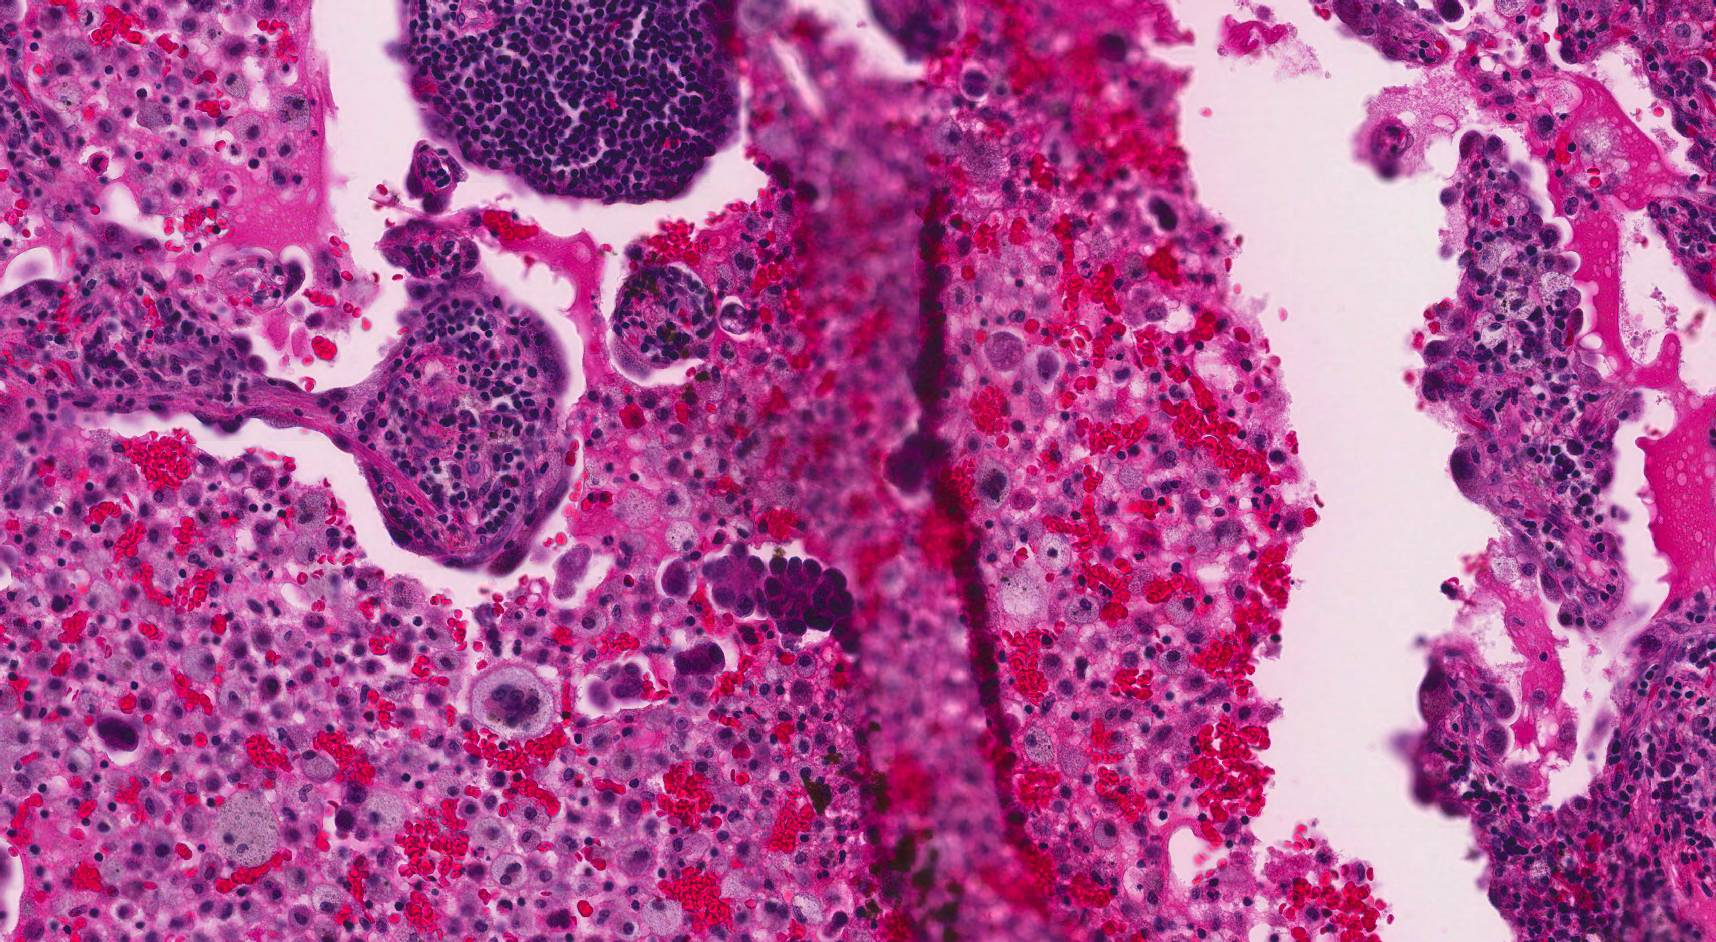stas: (703, 543, 854, 639), (669, 643, 728, 678)
